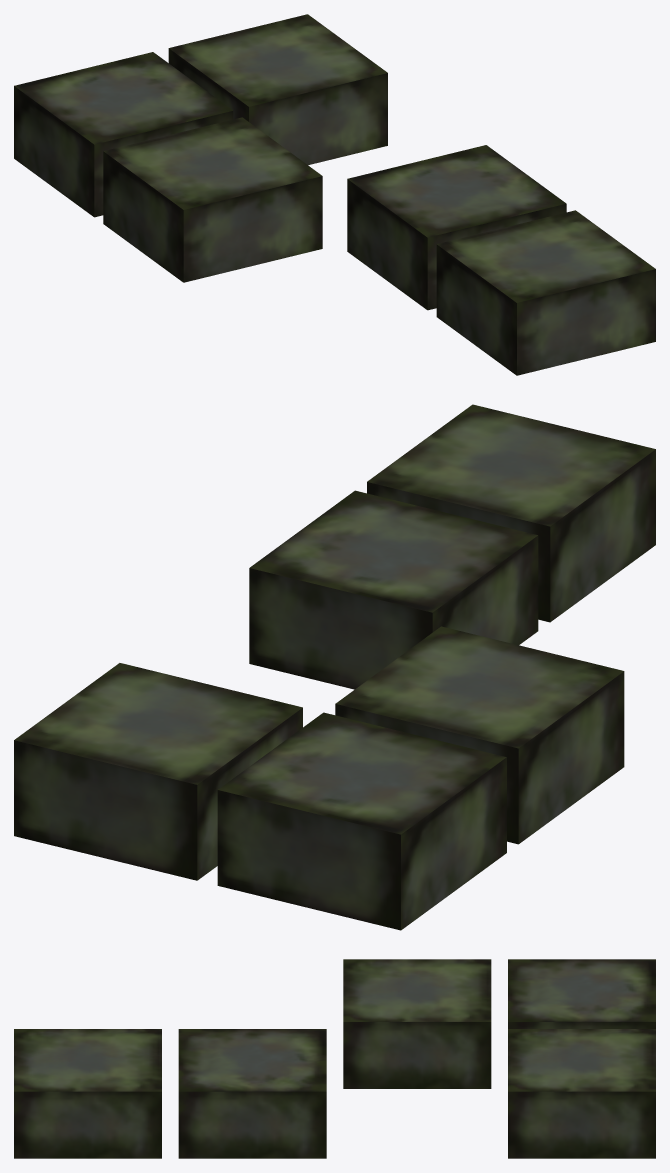
The model's file is cobblestone-small-02.fbx.
3 renders of one model, top to bottom at view 1: azimuth 30°, elevation 25°; view 2: azimuth 150°, elevation 25°; view 3: azimuth 270°, elevation 25°, orthographic. The views are drawn at different scales.
Visible parts, largest first — view 1: cobblestone_small_2; view 2: cobblestone_small_2; view 3: cobblestone_small_2.
Boxes of the visible parts, x1,y1,x2,y2 form: cobblestone_small_2: [14, 14, 655, 375]; cobblestone_small_2: [14, 404, 655, 930]; cobblestone_small_2: [14, 959, 655, 1158].
Size of the model in its own units: 190 by 44.98 by 390.
